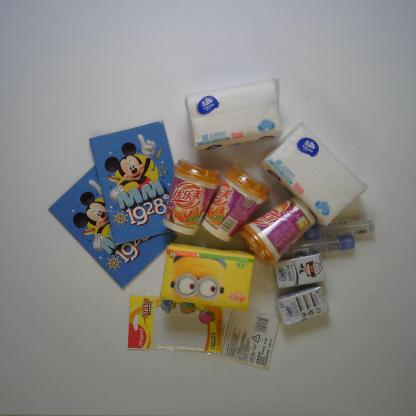Instant Drink: (238, 195, 315, 269), (201, 164, 271, 243), (161, 158, 223, 238)
Milk: (274, 283, 331, 330), (272, 252, 327, 290)
Stationery: (47, 162, 177, 291), (88, 118, 175, 247), (126, 294, 224, 355), (209, 307, 282, 370), (302, 217, 376, 243), (283, 234, 356, 258)
Tissue: (260, 120, 369, 229), (184, 76, 283, 152), (159, 241, 256, 312)
